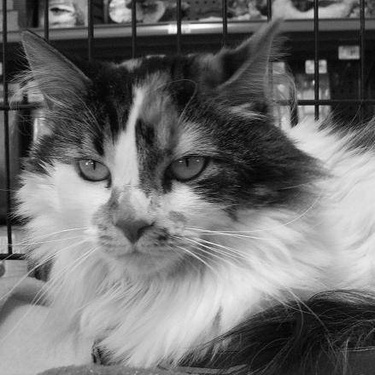cat: (1, 9, 371, 372)
